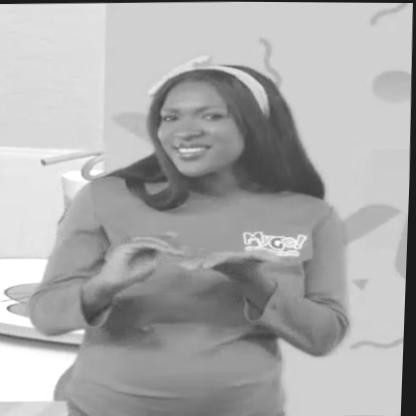ExcuseMe: (102, 202, 284, 306)
